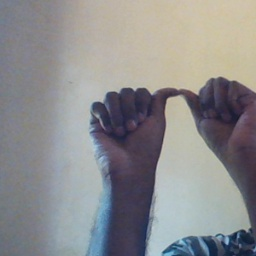A: (84, 71, 256, 157)
